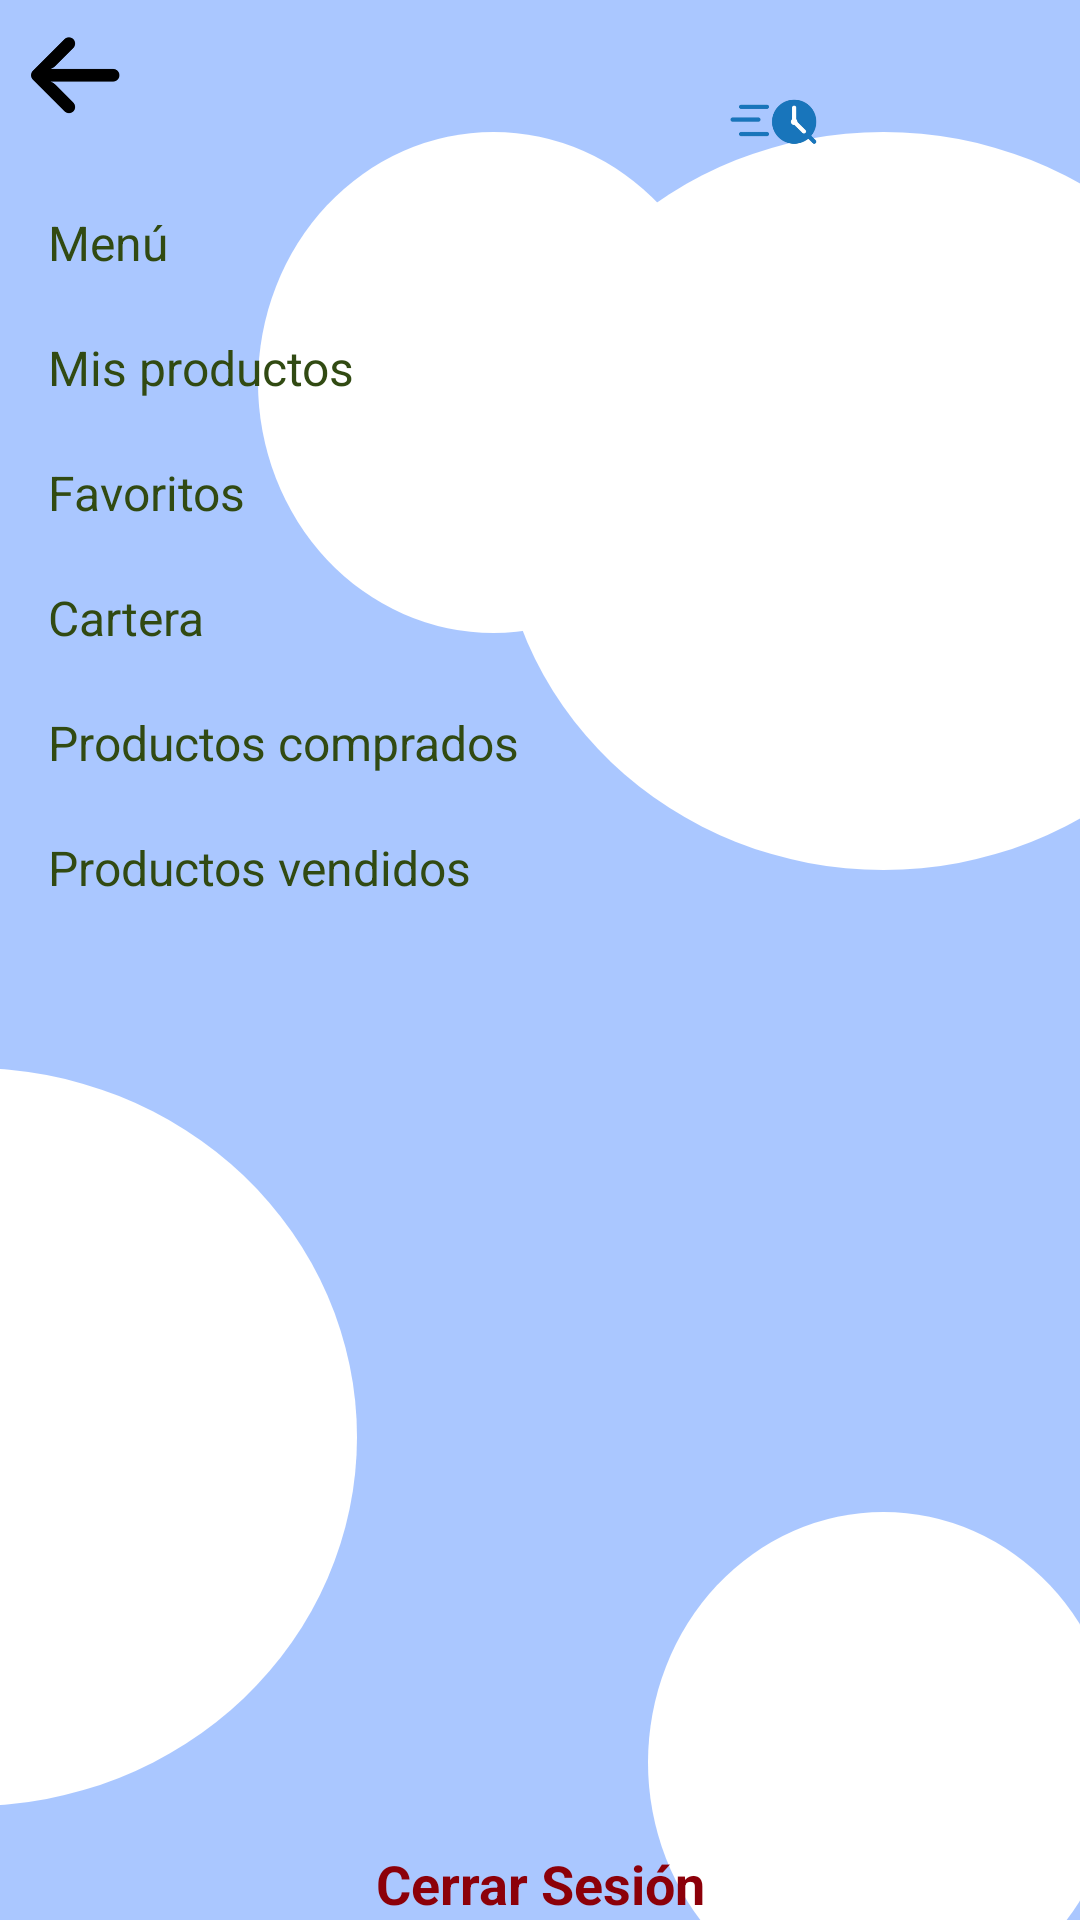

Locate icon controls on the screen. Image size 1080w x 1920h, boxes as (x1, y1, x2, y2).
flecha: (31, 37, 120, 114)
